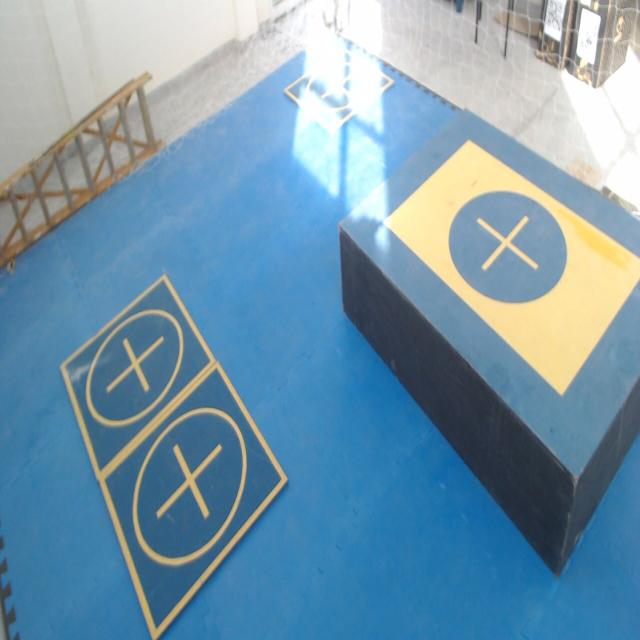base_inicio: (381, 137, 640, 400)
base_pouso: (98, 358, 289, 639), (58, 274, 216, 481), (281, 44, 395, 138)
